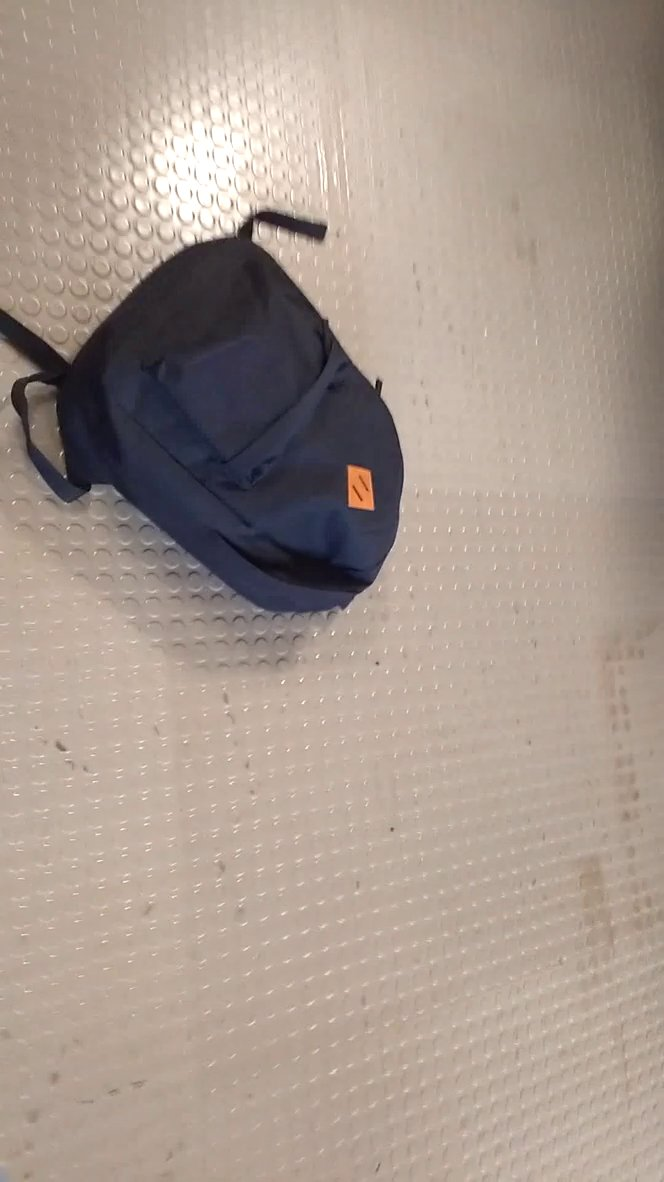bag: (1, 186, 428, 625)
